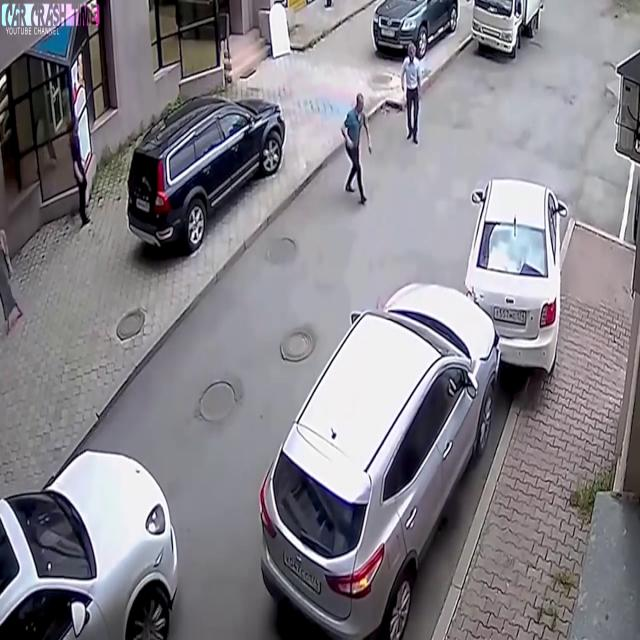Accident: (430, 152, 578, 416)
